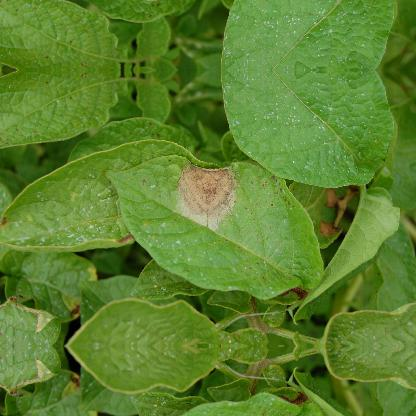Late-Blight: (60, 148, 254, 344), (60, 346, 253, 416)
